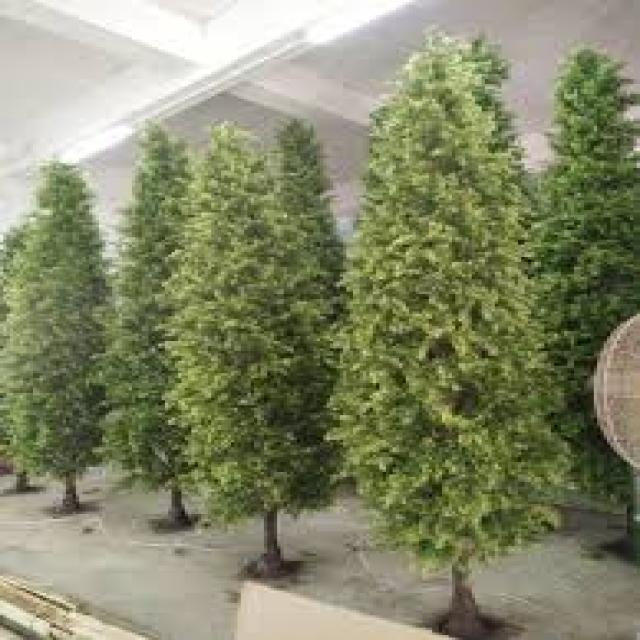sanaoubar: (365, 41, 574, 587), (191, 130, 352, 580), (13, 166, 101, 499)
